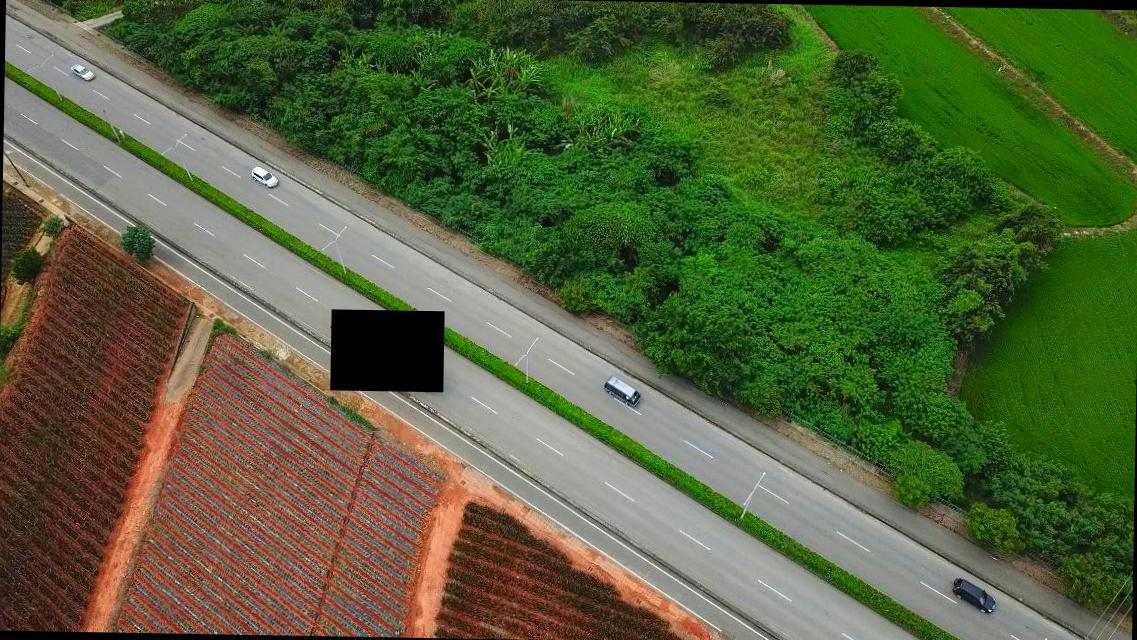vehicle: (948, 576, 996, 614), (604, 374, 642, 406), (251, 164, 280, 186), (72, 62, 96, 80)
